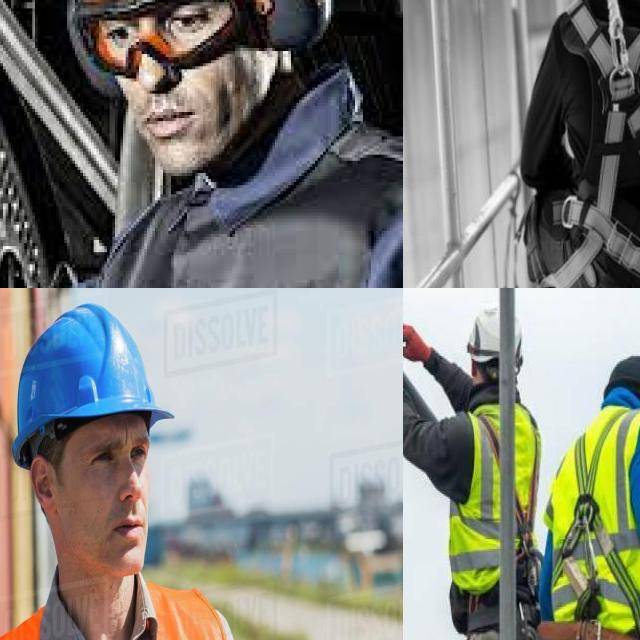Ear-protection: (156, 0, 347, 59)
Harness: (543, 0, 640, 288), (558, 419, 616, 598)
No_Ear-Protection: (27, 446, 59, 522)
No_Glasses: (77, 427, 153, 485)
face_nomask: (54, 424, 168, 576)
head_helmet: (4, 295, 172, 428)
person: (0, 288, 321, 640)
vest: (0, 572, 261, 640)
